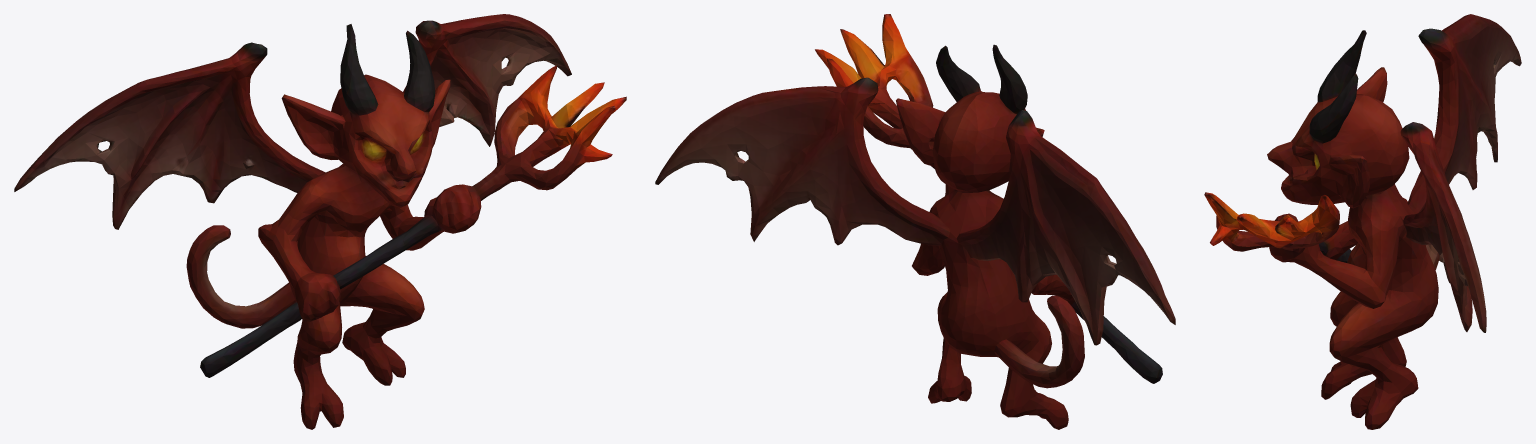
Rendered from fiend.glb.
3 views of the same model, side by side, from view 1: azimuth 30°, elevation 25°; view 2: azimuth 150°, elevation 25°; view 3: azimuth 270°, elevation 25° (orthographic).
Visible parts, largest first — view 1: world; view 2: world; view 3: world.
Boxes of the visible parts, x1,y1,x2,y2 form: world: (14,14,626,429); world: (655,14,1175,429); world: (1204,14,1521,429).
Bounding box in the file's own units: 0.9972 × 0.6745 × 0.5038.
1 material, 1 textured.
